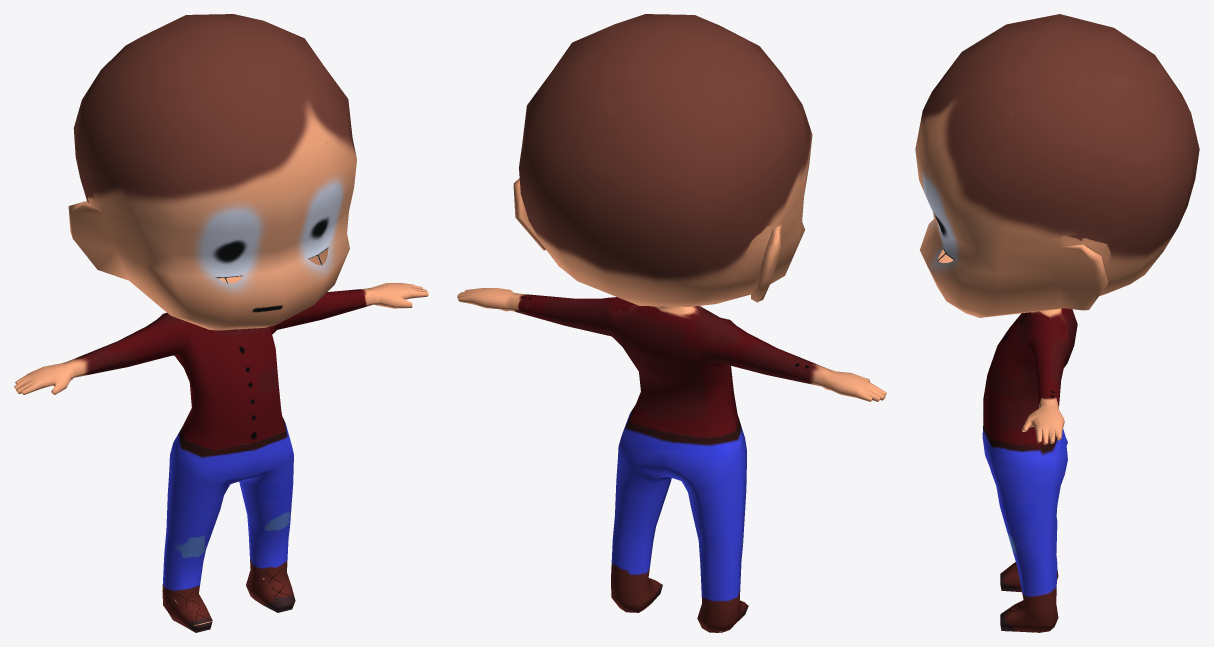
The model's file is Player.fbx.
3 renders of one model, left to right at view 1: azimuth 30°, elevation 25°; view 2: azimuth 150°, elevation 25°; view 3: azimuth 270°, elevation 25°, orthographic. The views are drawn at different scales.
Visible parts, largest first — view 1: Player; view 2: Player; view 3: Player.
Boxes of the visible parts, x1,y1,x2,y2 form: Player: (14,14,428,632); Player: (457,14,886,632); Player: (915,14,1199,632).
Size of the model in its own units: 21648 by 29105 by 12962.
1 material, 1 textured.
